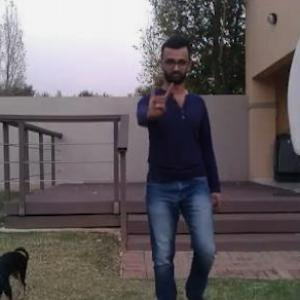takeoff-hand: (134, 73, 179, 121)
